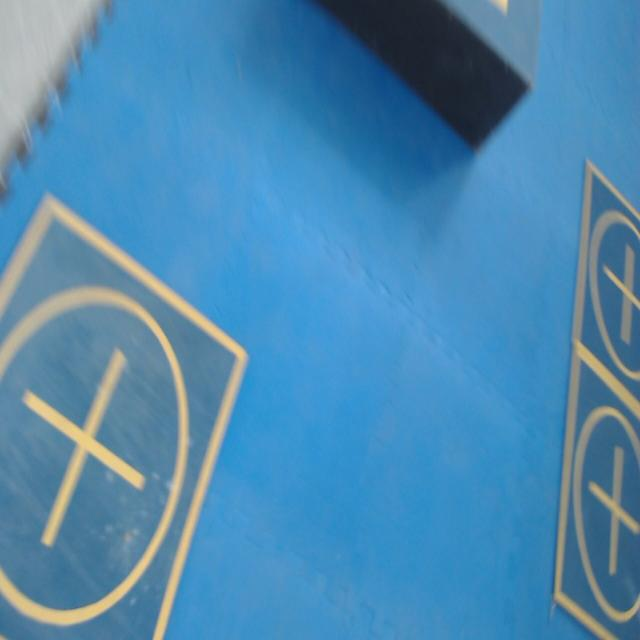base_inicio: (0, 192, 250, 639)
base_pouso: (552, 348, 640, 639), (569, 154, 640, 414)
